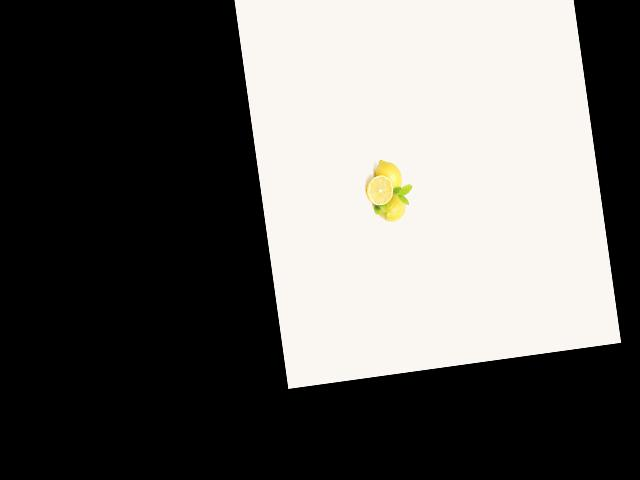lemon: (373, 188, 410, 225)
